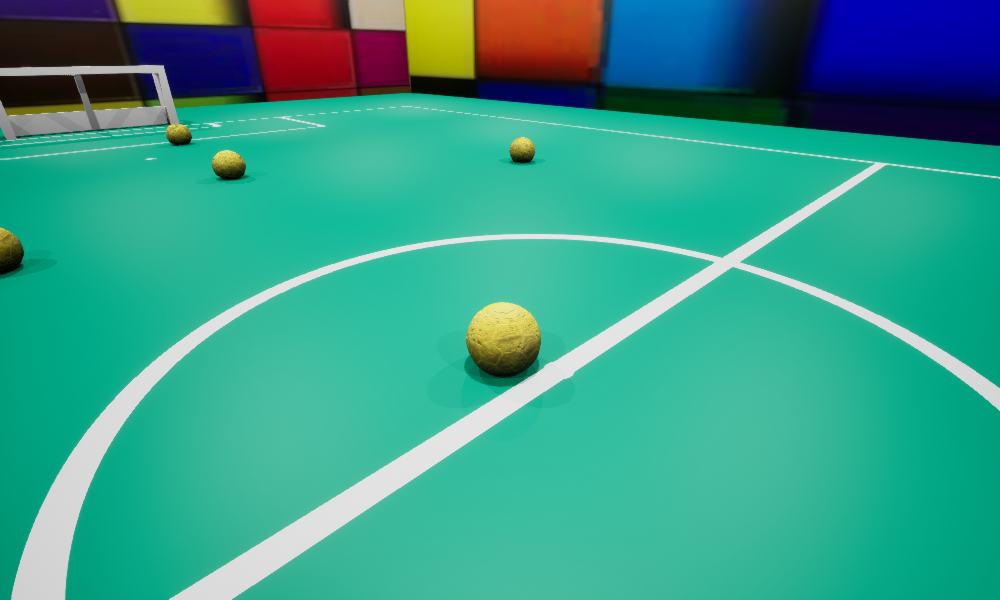b: (466, 302, 540, 375), (0, 227, 23, 271), (212, 150, 245, 179), (509, 137, 534, 162), (166, 123, 191, 143)
g: (0, 65, 178, 139)
